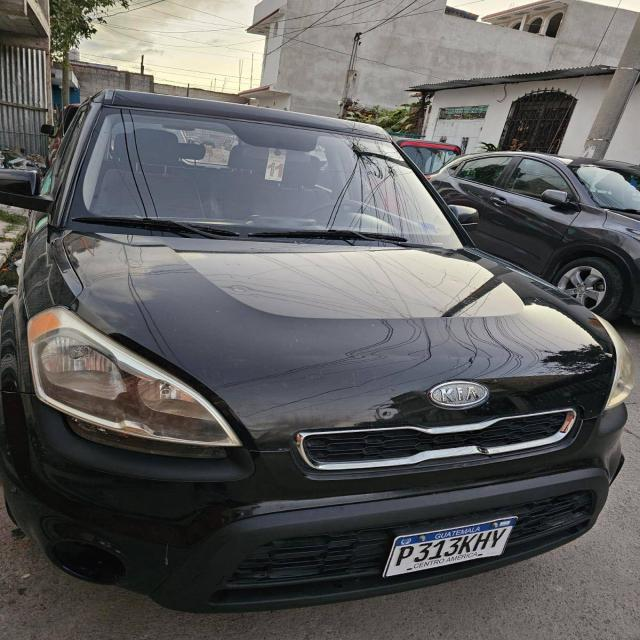Placas: (373, 508, 539, 595)
